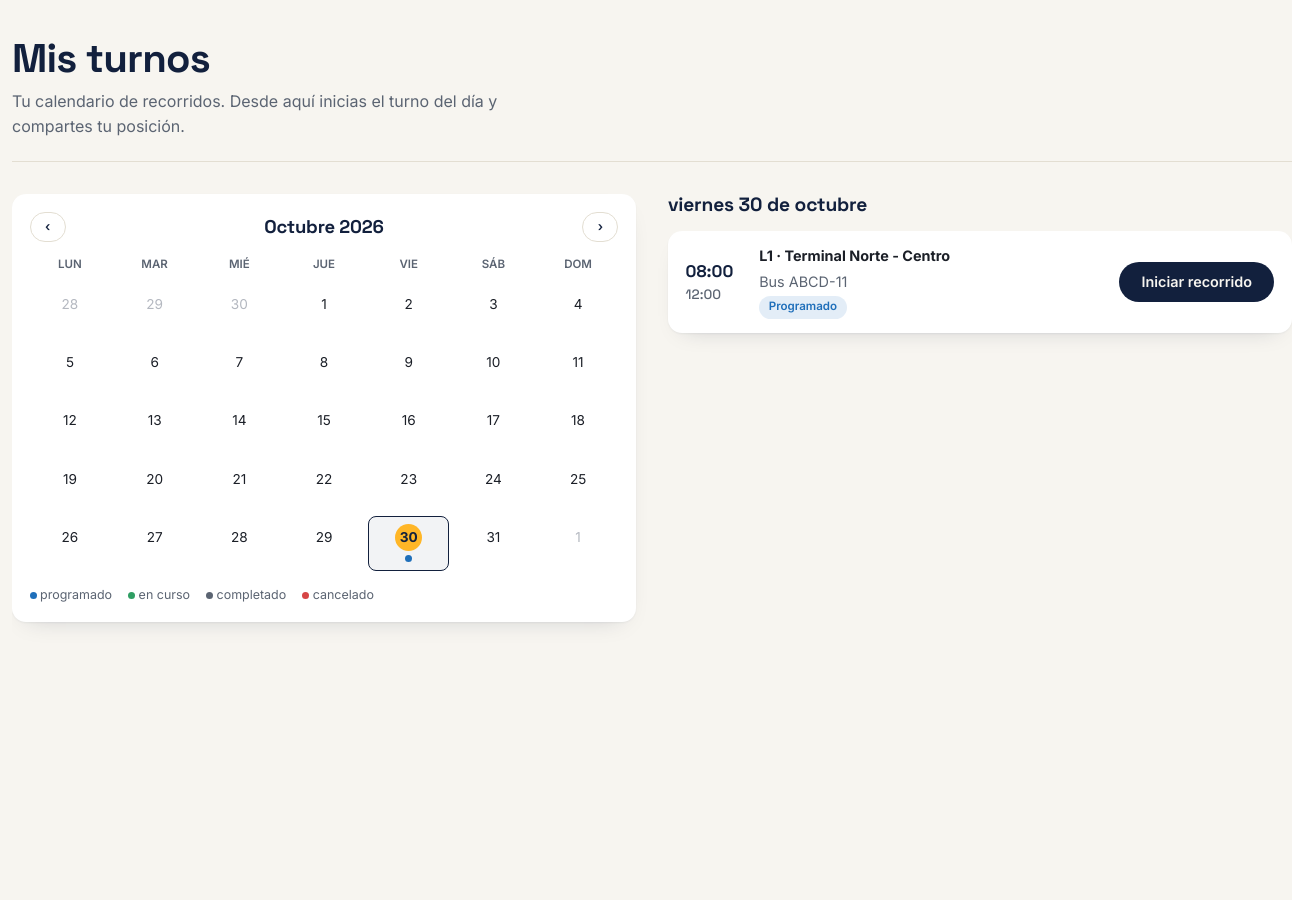
Test: Mis turnos (conductor) › muestra el error del servidor si no se puede iniciar
Click the button "Iniciar recorrido". click: (1197, 282)
box: [1119,262,1274,302]
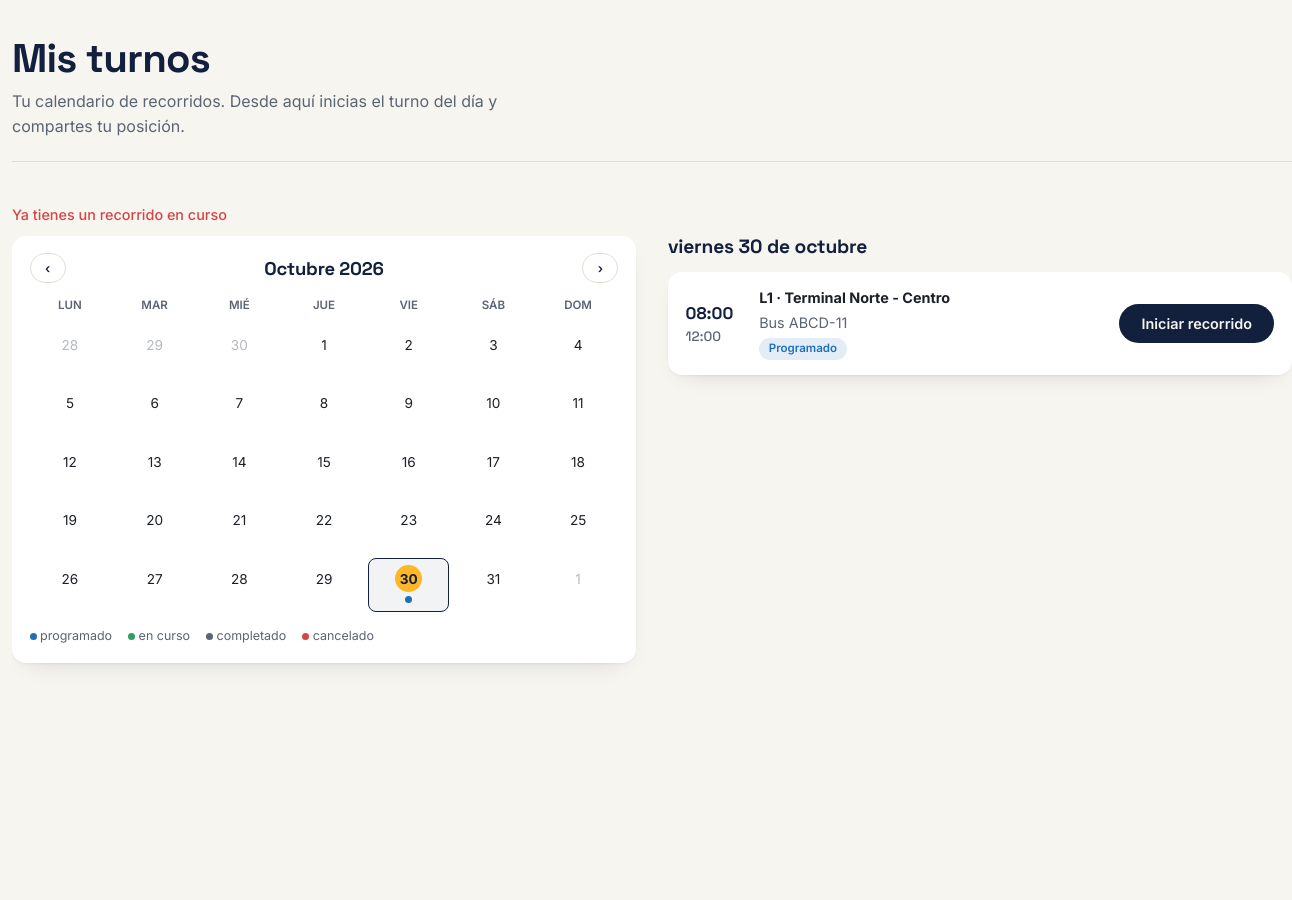
Expected: the message reads "Ya tienes un recorrido en curso", [12,206,227,223]
